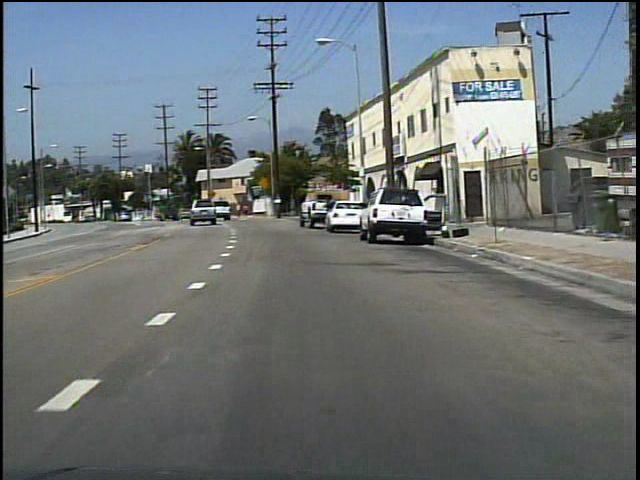person: (321, 194, 339, 231), (235, 199, 244, 220), (243, 202, 252, 219)
